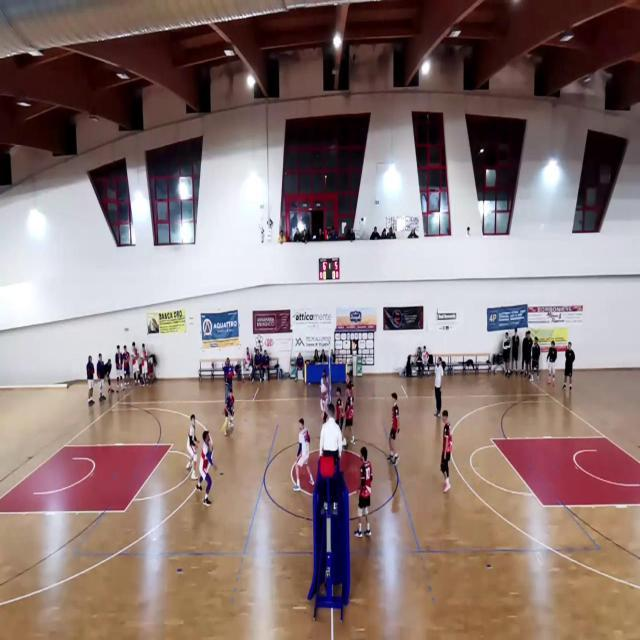volleyball: (226, 424, 234, 434)
